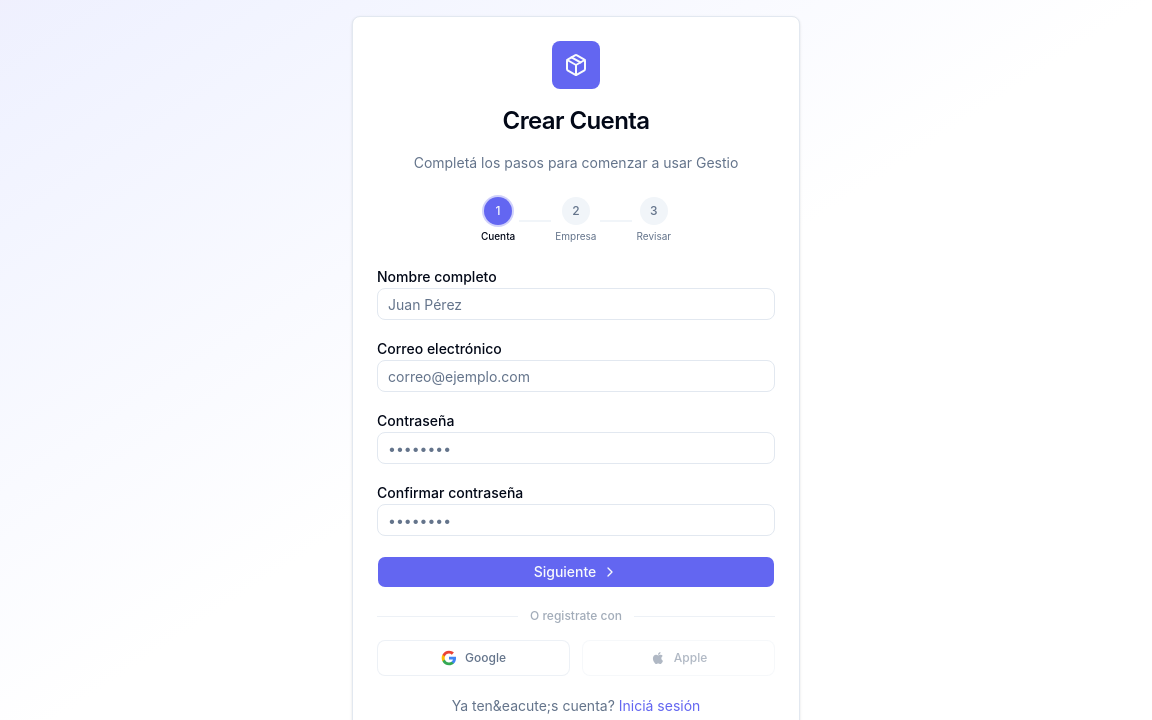
RegisterPage › renders organization name input field on step 2
Note: Navigate to step 1 (Empresa / Organization)
Click the button "Siguiente".
click(576, 572)  # box 377,556 -> 775,588
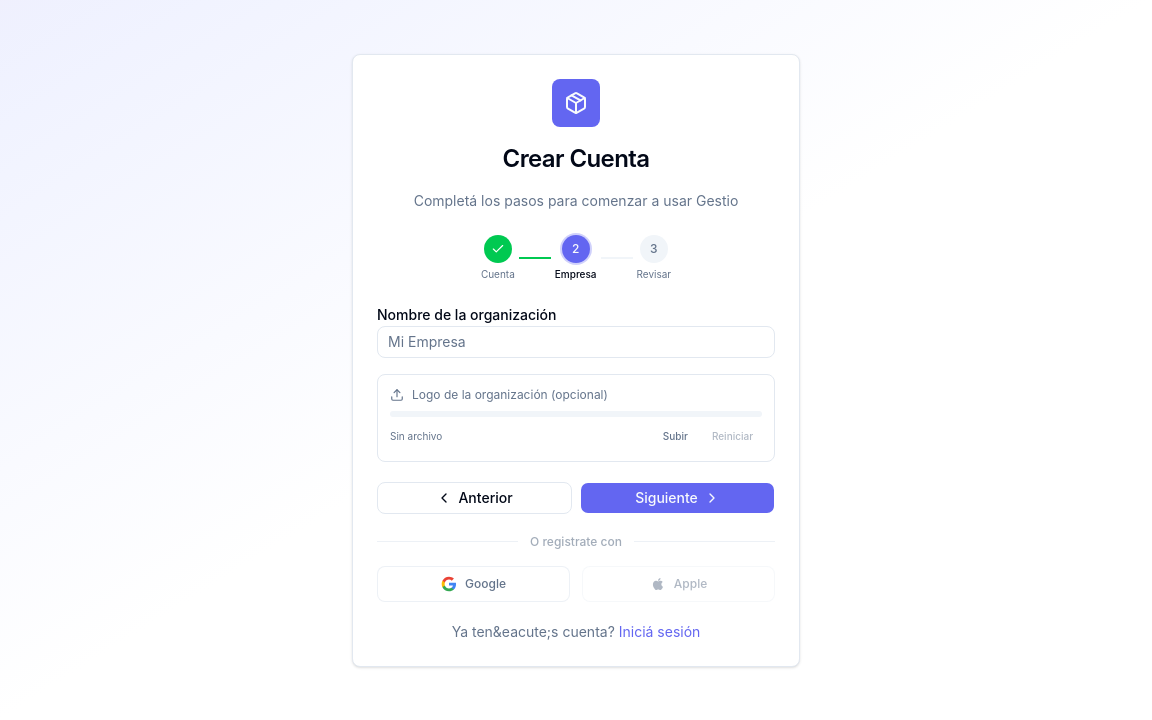
Expected: the field with placeholder "Mi Empresa" is shown, 377,326 -> 775,358
